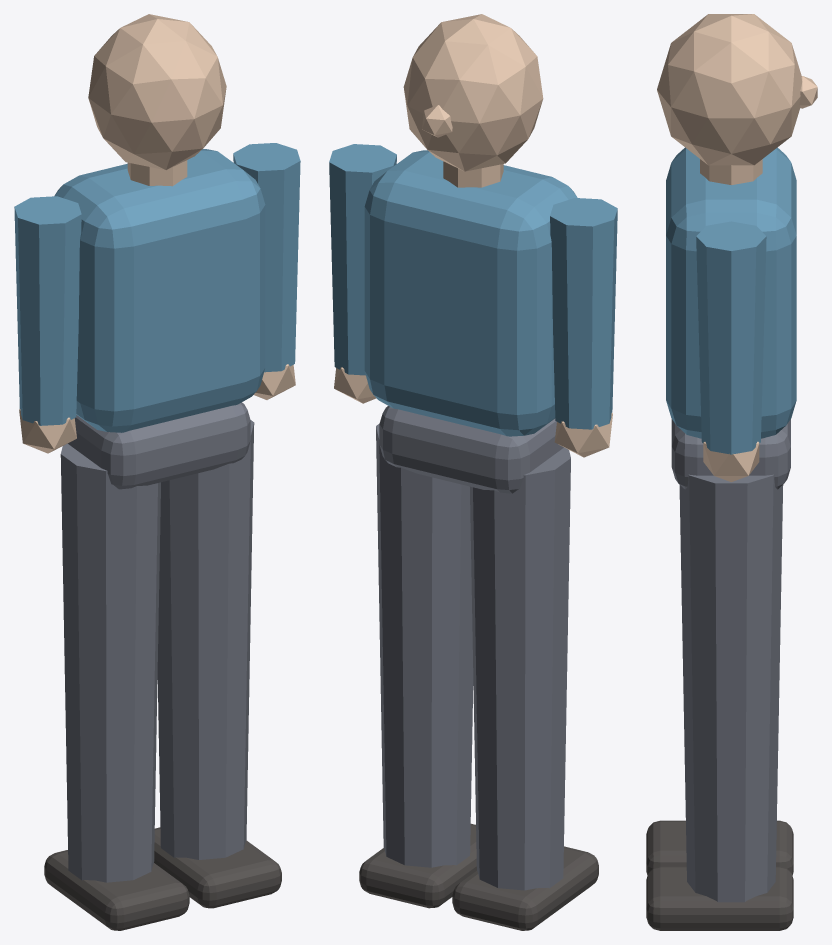
File: character.glb
3 views of the same model, side by side, from view 1: azimuth 30°, elevation 25°; view 2: azimuth 150°, elevation 25°; view 3: azimuth 270°, elevation 25° (orthographic).
Visible parts, largest first — view 1: character.torso, character.leg_left, character.leg_right, character.head, character.arm_left, character.hips, character.arm_right, character.shoe_left, character.shoe_right, character.hand_left, character.neck, character.hand_right; view 2: character.torso, character.leg_left, character.leg_right, character.head, character.arm_left, character.hips, character.arm_right, character.shoe_left, character.shoe_right, character.hand_left, character.neck, character.hand_right (+1 smaller); view 3: character.leg_right, character.torso, character.head, character.arm_right, character.shoe_right, character.hips, character.shoe_left, character.hand_right, character.neck, character.nose.
Part boxes in pixels (x1=…): character.torso: x1=54, y1=149, x2=265, y2=432; character.leg_left: x1=60, y1=443, x2=160, y2=882; character.leg_right: x1=157, y1=420, x2=254, y2=859; character.head: x1=88, y1=14, x2=226, y2=169; character.arm_left: x1=14, y1=196, x2=81, y2=425; character.hips: x1=68, y1=402, x2=250, y2=489; character.arm_right: x1=233, y1=143, x2=300, y2=372; character.shoe_left: x1=44, y1=850, x2=189, y2=930; character.shoe_right: x1=154, y1=827, x2=281, y2=908; character.hand_left: x1=19, y1=409, x2=76, y2=453; character.neck: x1=127, y1=160, x2=187, y2=186; character.hand_right: x1=254, y1=364, x2=295, y2=399; character.torso: x1=364, y1=150, x2=577, y2=436; character.leg_left: x1=470, y1=447, x2=570, y2=890; character.leg_right: x1=376, y1=423, x2=473, y2=867; character.head: x1=403, y1=14, x2=543, y2=171; character.arm_left: x1=550, y1=198, x2=617, y2=429; character.hips: x1=379, y1=406, x2=563, y2=493; character.arm_right: x1=329, y1=144, x2=396, y2=375; character.shoe_left: x1=452, y1=846, x2=598, y2=930; character.shoe_right: x1=359, y1=823, x2=476, y2=908; character.hand_left: x1=554, y1=413, x2=612, y2=457; character.neck: x1=443, y1=161, x2=503, y2=187; character.hand_right: x1=334, y1=367, x2=376, y2=403; character.leg_right: x1=679, y1=474, x2=783, y2=902; character.torso: x1=666, y1=147, x2=796, y2=438; character.head: x1=657, y1=14, x2=802, y2=165; character.arm_right: x1=696, y1=221, x2=766, y2=454; character.shoe_right: x1=646, y1=866, x2=793, y2=930; character.hips: x1=671, y1=419, x2=790, y2=489; character.shoe_left: x1=646, y1=820, x2=793, y2=875; character.hand_right: x1=703, y1=441, x2=759, y2=482; character.neck: x1=700, y1=159, x2=762, y2=185; character.nose: x1=799, y1=76, x2=817, y2=108.
Size of the model in its own units: 0.574 by 1.7 by 0.3022.
